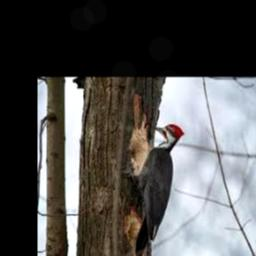Woodpecker: (126, 123, 184, 256)
